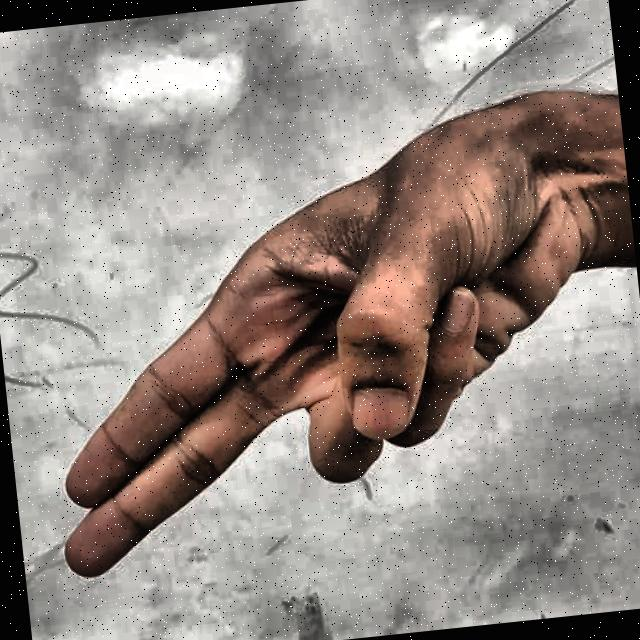Ha: (5, 27, 622, 634)
